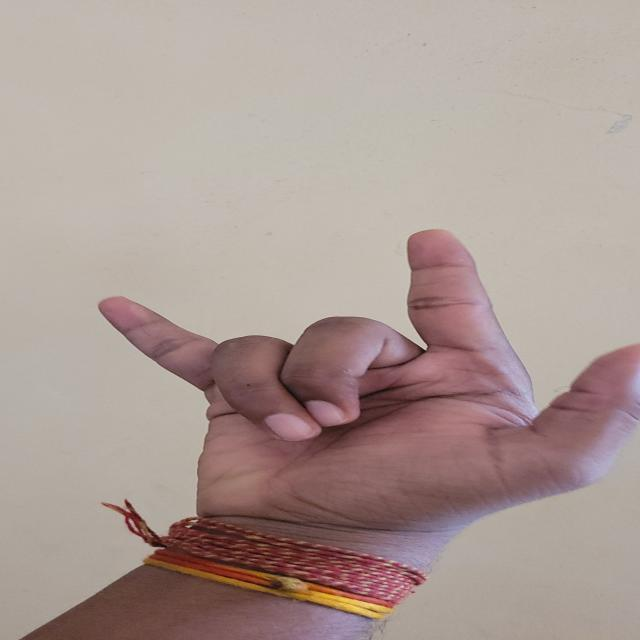i like you: (83, 233, 636, 558)
